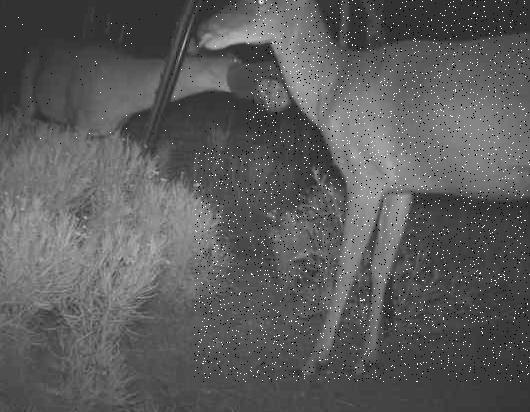Deer: (194, 0, 530, 382), (4, 15, 247, 147)
